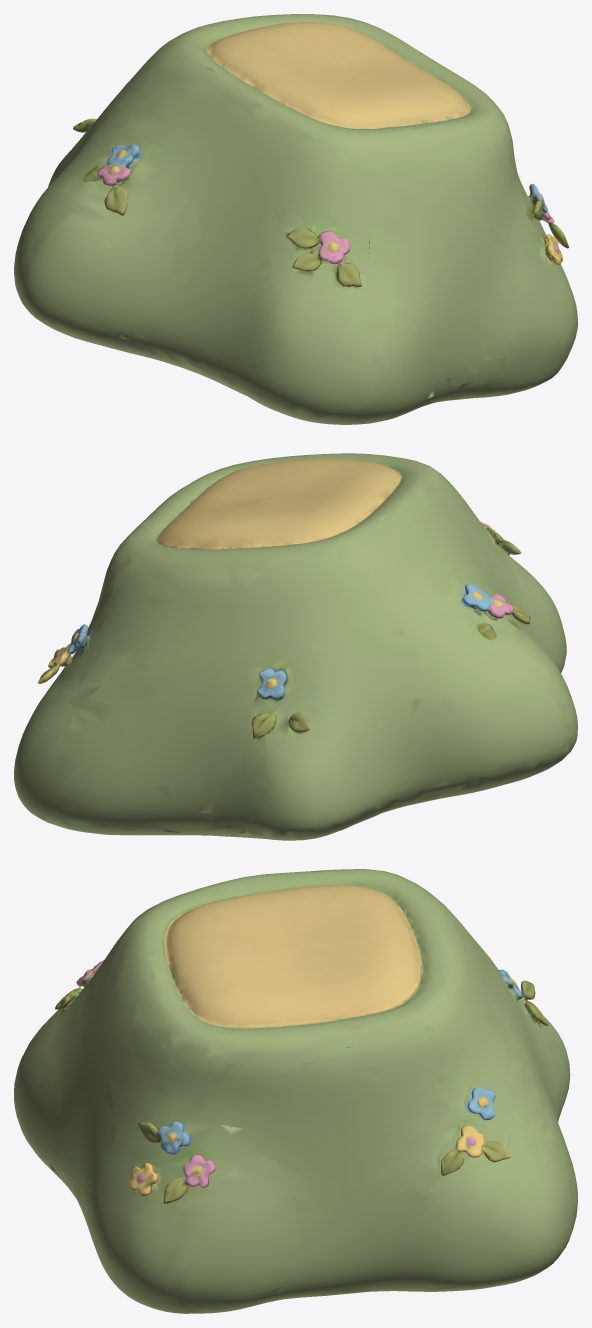
The picture shows the model from 3 angles, top to bottom: view 1: azimuth 30°, elevation 25°; view 2: azimuth 150°, elevation 25°; view 3: azimuth 270°, elevation 25°; orthographic projection.
Visible parts, largest first — view 1: repaired; view 2: repaired; view 3: repaired.
Part boxes in pixels (x1=…): repaired: x1=14, y1=14, x2=577, y2=424; repaired: x1=14, y1=453, x2=577, y2=840; repaired: x1=14, y1=869, x2=577, y2=1313.
Size of the model in its own units: 0.9965 by 0.6283 by 0.9995.
Materials: 1 (1 with a texture image).
